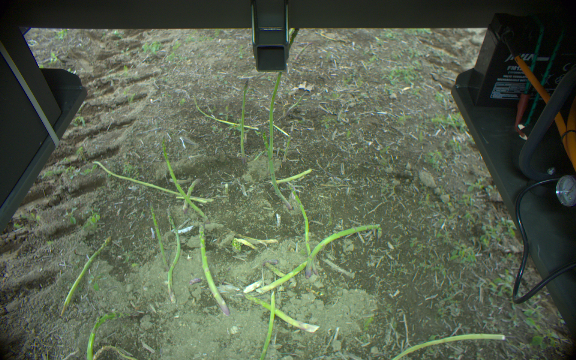aspa: (257, 222, 380, 296), (92, 161, 210, 205), (270, 27, 299, 206), (159, 140, 212, 221), (60, 235, 111, 319), (195, 221, 229, 316), (247, 292, 320, 335), (393, 333, 505, 360), (86, 312, 122, 360), (146, 201, 167, 269), (290, 186, 309, 255), (238, 79, 252, 165), (164, 207, 176, 304), (263, 288, 279, 360), (181, 177, 201, 211), (263, 259, 286, 281)
